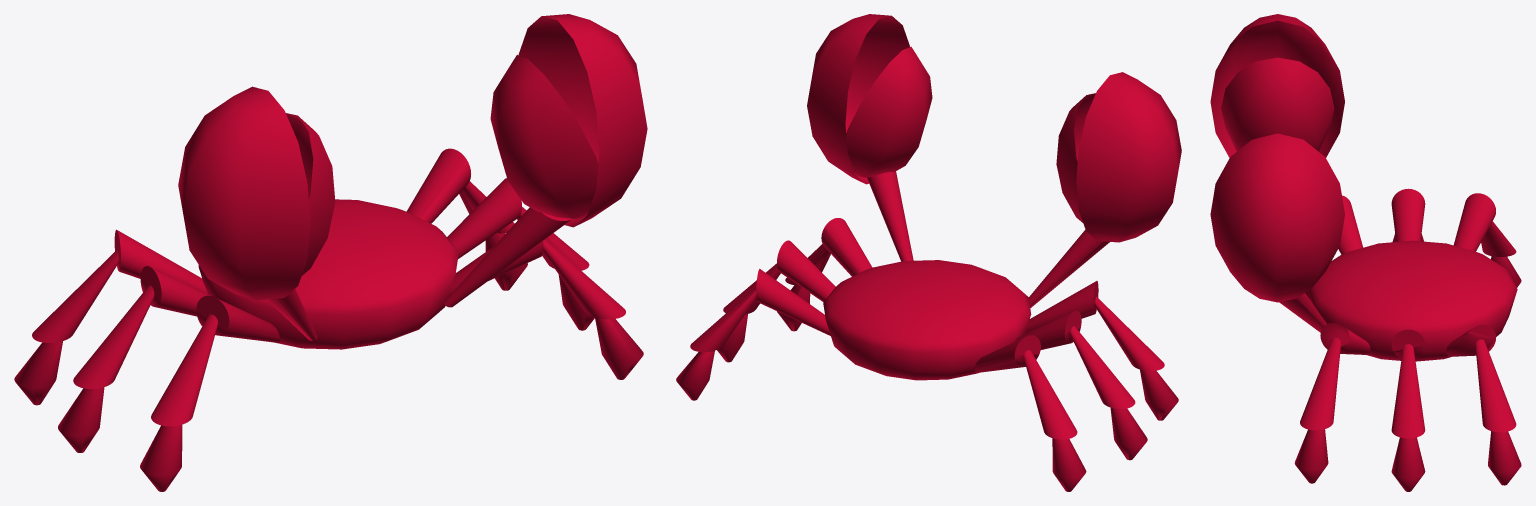
File: yengec.fbx
3 views of the same model, side by side, from view 1: azimuth 30°, elevation 25°; view 2: azimuth 150°, elevation 25°; view 3: azimuth 270°, elevation 25° (orthographic). The views are drawn at different scales.
Parts seen in each view (by area): view 1: Cylinder.001; view 2: Cylinder.001; view 3: Cylinder.001.
Boxes of the visible parts, x1,y1,x2,y2 form: Cylinder.001: (14, 14, 647, 491); Cylinder.001: (676, 14, 1181, 491); Cylinder.001: (1210, 14, 1521, 491).
Size of the model in its own units: 509 by 354 by 317.
